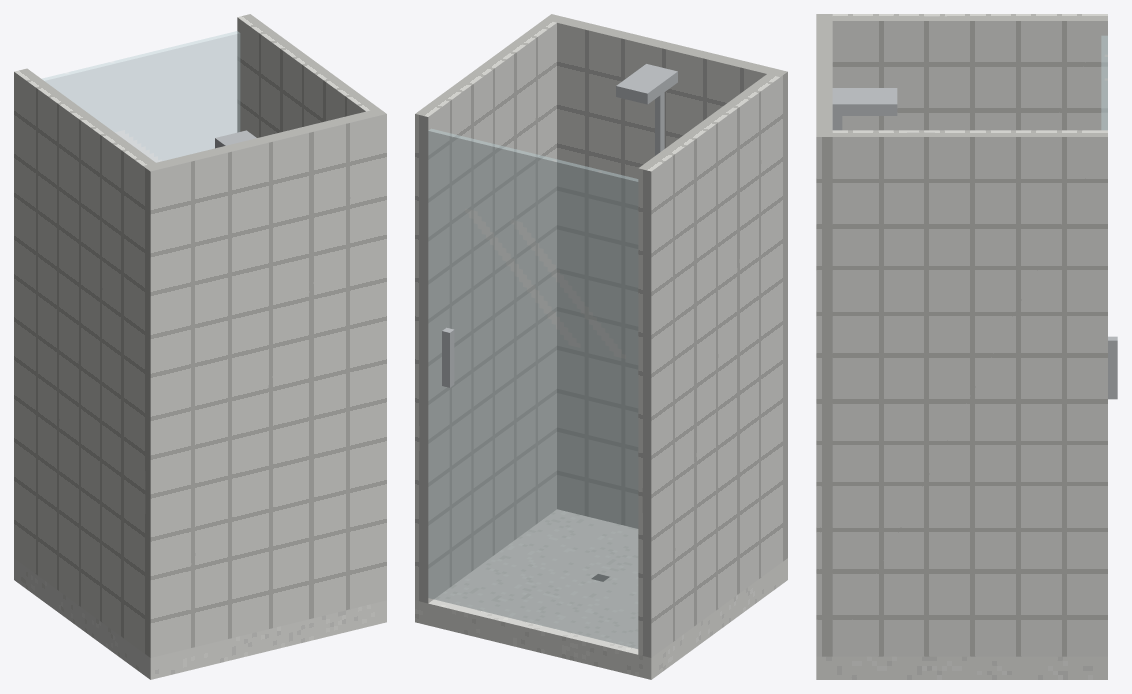
File: f_shower.glb
3 views of the same model, side by side, from view 1: azimuth 30°, elevation 25°; view 2: azimuth 150°, elevation 25°; view 3: azimuth 270°, elevation 25° (orthographic). The views are drawn at different scales.
Parts seen in each view (by area): view 1: block_back, block_l, block_door, block_r, block_tray; view 2: block_door, block_l, block_r, block_back, block_tray, block_head, block_door-handle, block_riser; view 3: block_r, block_l, block_back, block_tray, block_head, block_door, block_door-handle.
Boxes of the visible parts, <box> form: block_back: <box>143,108,386,657</box>; block_l: <box>14,68,155,651</box>; block_door: <box>42,31,240,162</box>; block_r: <box>237,14,378,137</box>; block_tray: <box>14,558,386,679</box>; block_door: <box>428,129,638,648</box>; block_l: <box>638,74,780,657</box>; block_r: <box>415,19,556,603</box>; block_back: <box>544,14,787,563</box>; block_tray: <box>415,509,787,679</box>; block_head: <box>616,64,677,104</box>; block_door-handle: <box>442,327,454,387</box>; block_riser: <box>655,67,664,155</box>; block_r: <box>832,130,1107,656</box>; block_l: <box>832,14,1107,130</box>; block_back: <box>816,14,832,656</box>; block_tray: <box>816,656,1107,679</box>; block_head: <box>832,88,897,115</box>; block_door: <box>1101,35,1107,130</box>; block_door-handle: <box>1108,336,1117,399</box>.
Bounding box in the file's own units: 0.9 × 1.85 × 0.93.
Materials: 3 (3 with a texture image).
